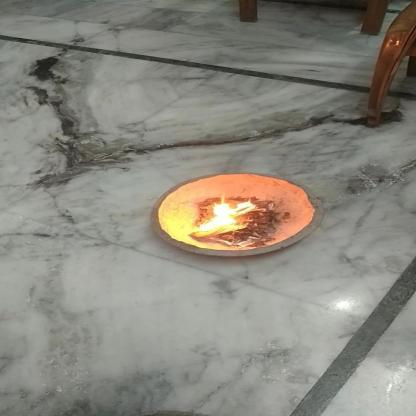fire: (200, 193, 265, 240)
